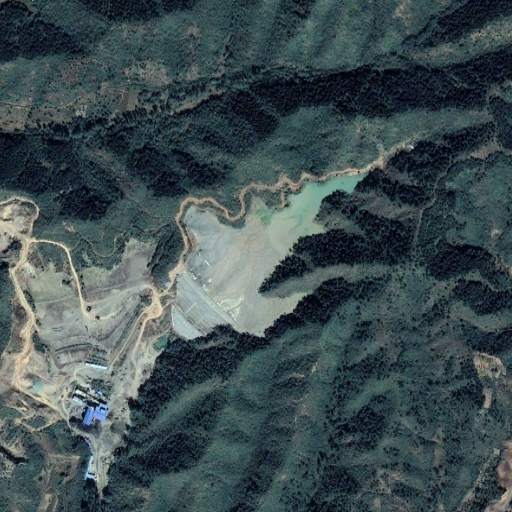tp: (170, 170, 366, 342)
